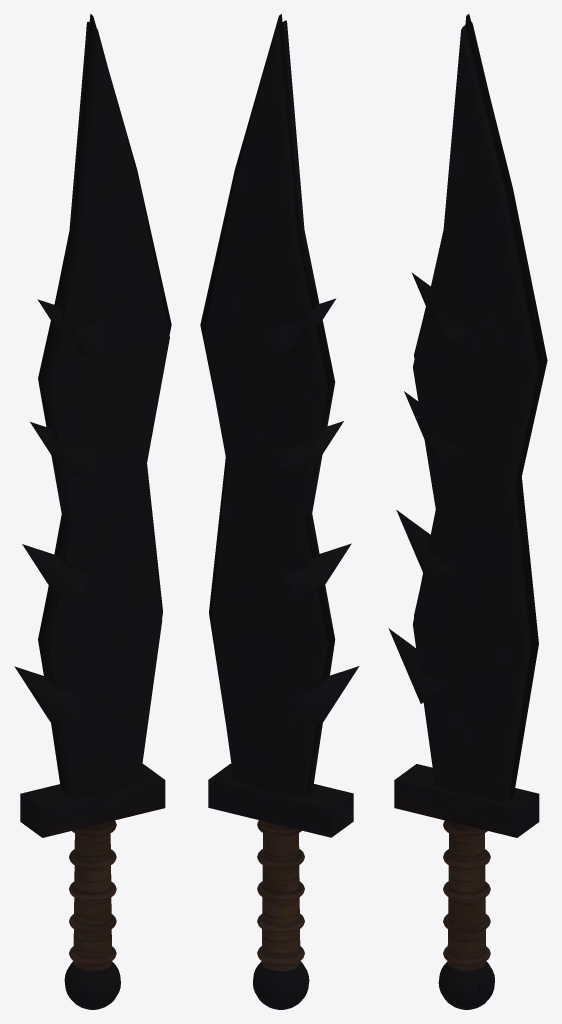
The model's file is blade_obsidian.glb.
3 views of the same model, side by side, from view 1: azimuth 30°, elevation 25°; view 2: azimuth 150°, elevation 25°; view 3: azimuth 330°, elevation 25° (orthographic).
Visible parts, largest first — view 1: Blade_obsidian; view 2: Blade_obsidian; view 3: Blade_obsidian.
Part boxes in pixels (x1,y1,x2,y2): Blade_obsidian: [14, 14, 171, 1009]; Blade_obsidian: [200, 14, 359, 1009]; Blade_obsidian: [388, 14, 547, 1009].
Bounding box in the file's own units: 0.2047 × 1.23 × 0.064.
Materials: 1 (1 with a texture image).
